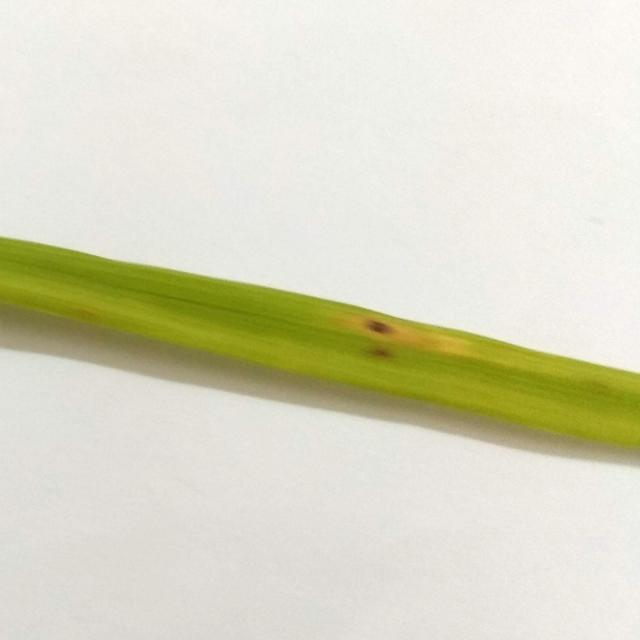Brown spot: (0, 196, 640, 497)
